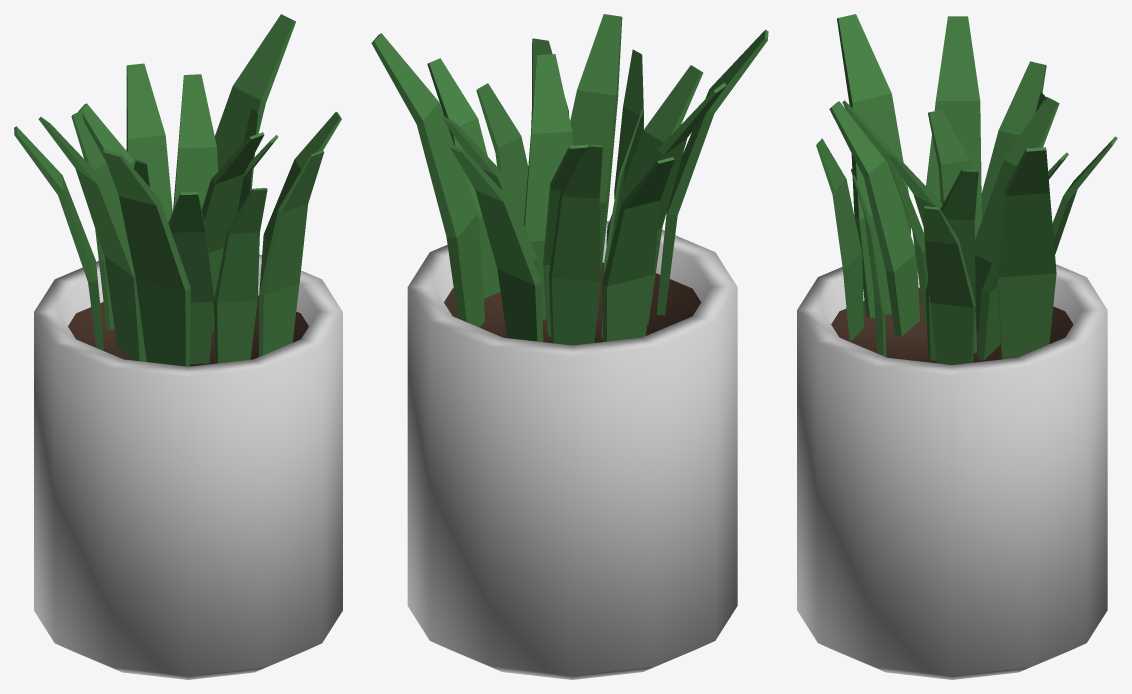
The model's file is PlanteBureau.fbx.
3 views of the same model, side by side, from view 1: azimuth 30°, elevation 25°; view 2: azimuth 150°, elevation 25°; view 3: azimuth 270°, elevation 25° (orthographic). The views are drawn at different scales.
Parts seen in each view (by area): view 1: Plante; view 2: Plante; view 3: Plante.
Part boxes in pixels (box(x1,y1,x2,y2)): Plante: box(14, 14, 342, 679); Plante: box(371, 14, 768, 679); Plante: box(797, 14, 1117, 679).
Bounding box in the file's own units: 10.76 × 19.43 × 10.36.
